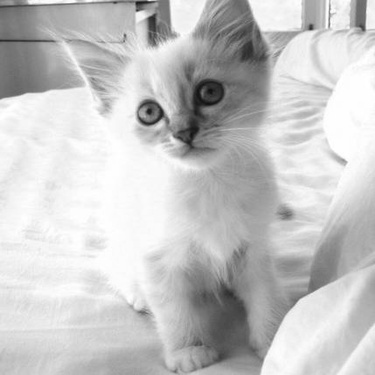cat: (23, 1, 324, 372)
